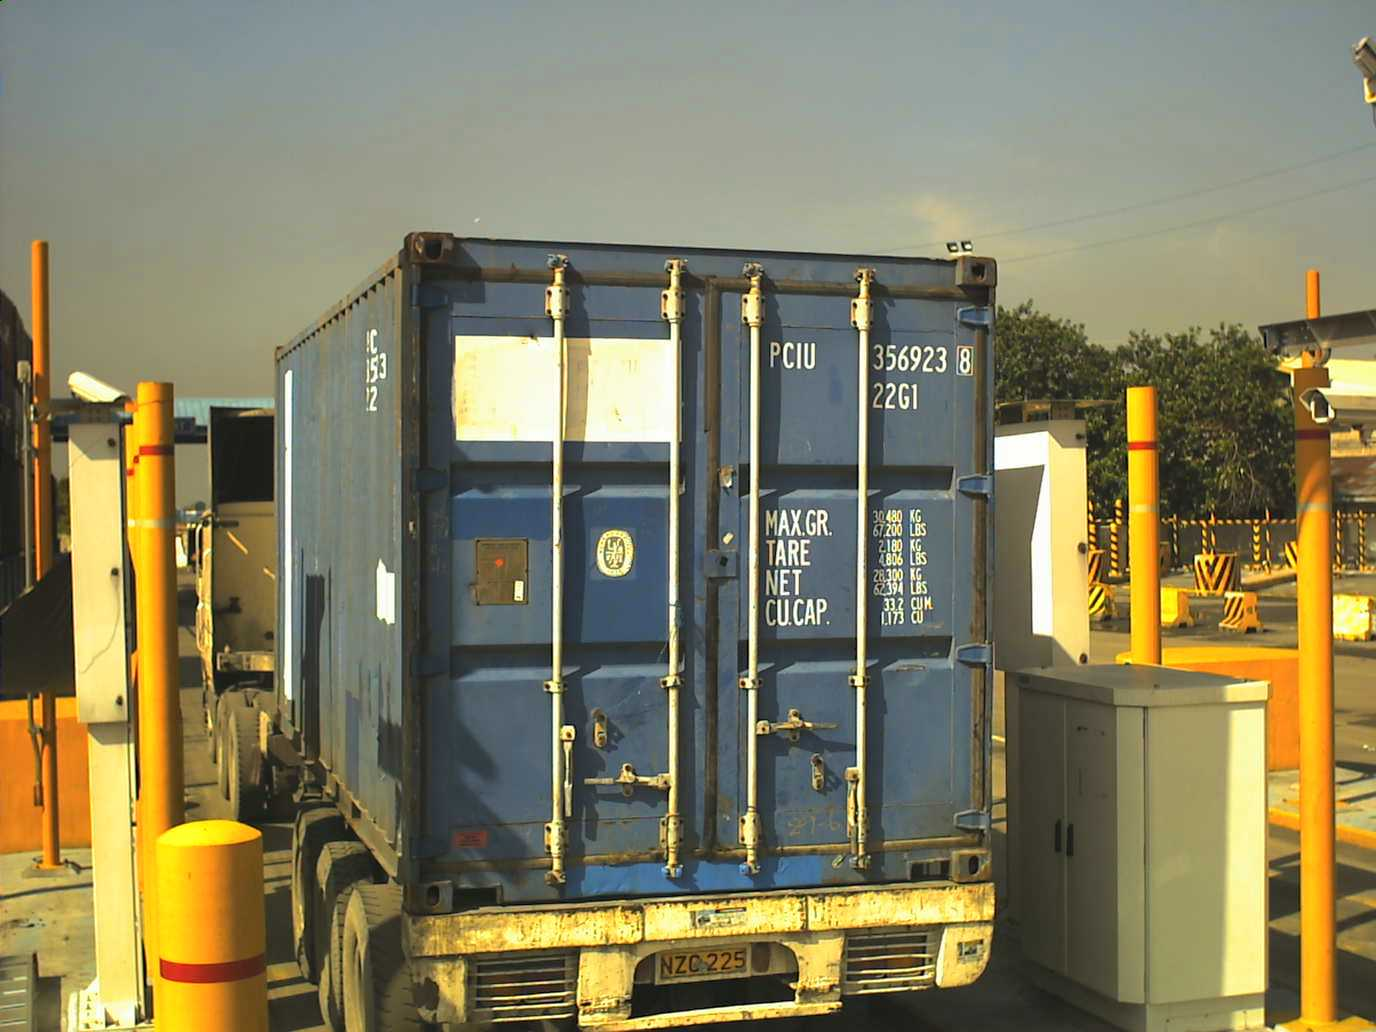container_door: (401, 227, 1002, 896)
